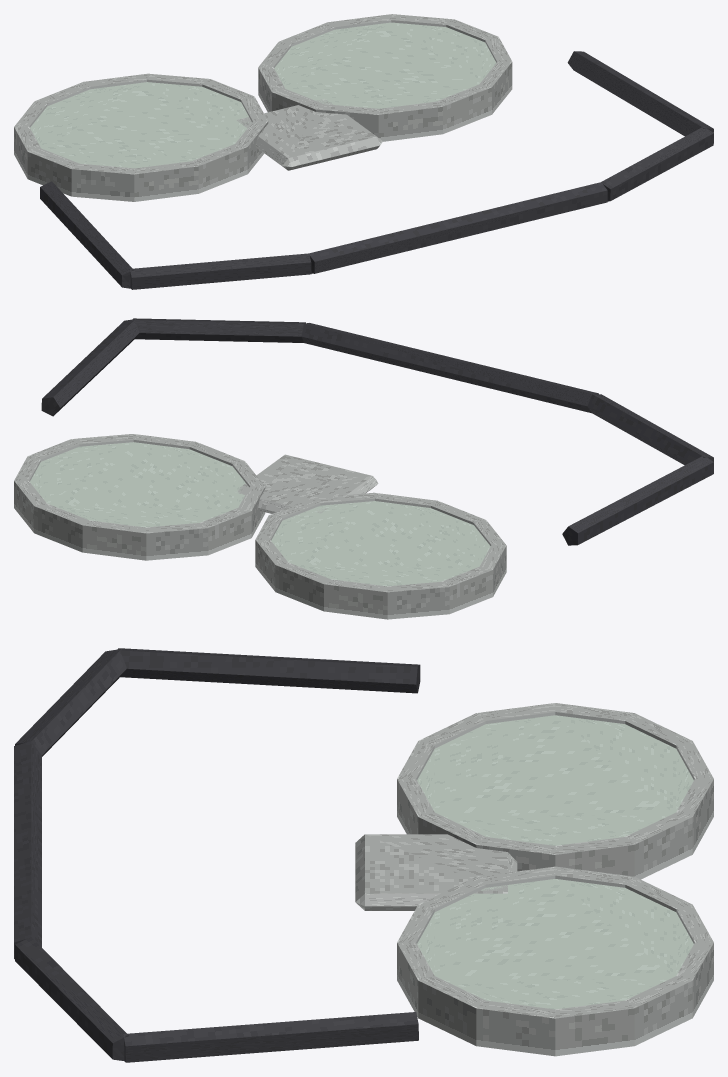
File: insert_vision_correction.glb
3 views of the same model, one above another, from view 1: azimuth 30°, elevation 25°; view 2: azimuth 150°, elevation 25°; view 3: azimuth 270°, elevation 25° (orthographic). The views are drawn at different scales.
Parts seen in each view (by area): view 1: block_rounded lens (×2), block_slender lens frame (×2), block_head strap or temple pieces 2, block_frame bridge, block_head strap or temple pieces 1, block_head strap or temple pieces 4, block_head strap or temple pieces 0, block_head strap or temple pieces 3; view 2: block_rounded lens (×2), block_slender lens frame (×2), block_head strap or temple pieces 2, block_frame bridge, block_head strap or temple pieces 3, block_head strap or temple pieces 0, block_head strap or temple pieces 1, block_head strap or temple pieces 4; view 3: block_rounded lens (×2), block_slender lens frame (×2), block_frame bridge, block_head strap or temple pieces 0, block_head strap or temple pieces 4, block_head strap or temple pieces 2, block_head strap or temple pieces 3, block_head strap or temple pieces 1.
Part boxes in pixels (left/top/right/bottom): block_rounded lens (×2): left=30, top=22, right=496, bottom=168; block_slender lens frame (×2): left=14, top=14, right=512, bottom=201; block_head strap or temple pieces 2: left=308, top=182, right=607, bottom=273; block_frame bridge: left=237, top=99, right=382, bottom=170; block_head strap or temple pieces 1: left=129, top=253, right=311, bottom=289; block_head strap or temple pieces 4: left=567, top=51, right=713, bottom=136; block_head strap or temple pieces 0: left=40, top=181, right=133, bottom=288; block_head strap or temple pieces 3: left=601, top=126, right=713, bottom=201; block_rounded lens (×2): left=30, top=442, right=490, bottom=586; block_slender lens frame (×2): left=14, top=434, right=506, bottom=619; block_head strap or temple pieces 2: left=301, top=323, right=598, bottom=413; block_frame bridge: left=235, top=454, right=378, bottom=513; block_head strap or temple pieces 3: left=132, top=318, right=305, bottom=342; block_head strap or temple pieces 0: left=562, top=455, right=713, bottom=545; block_head strap or temple pieces 1: left=587, top=394, right=713, bottom=465; block_head strap or temple pieces 4: left=41, top=319, right=139, bottom=416; block_rounded lens (×2): left=417, top=715, right=693, bottom=1009; block_slender lens frame (×2): left=397, top=703, right=713, bottom=1056; block_frame bridge: left=355, top=834, right=517, bottom=910; block_head strap or temple pieces 0: left=116, top=648, right=420, bottom=693; block_head strap or temple pieces 4: left=123, top=1012, right=418, bottom=1062; block_head strap or temple pieces 2: left=14, top=741, right=41, bottom=959; block_head strap or temple pieces 3: left=15, top=937, right=128, bottom=1060; block_head strap or temple pieces 1: left=15, top=649, right=126, bottom=756.
Bounding box in the file's own units: 0.1 × 0.00713 × 0.0743.
1 material, 1 textured.
